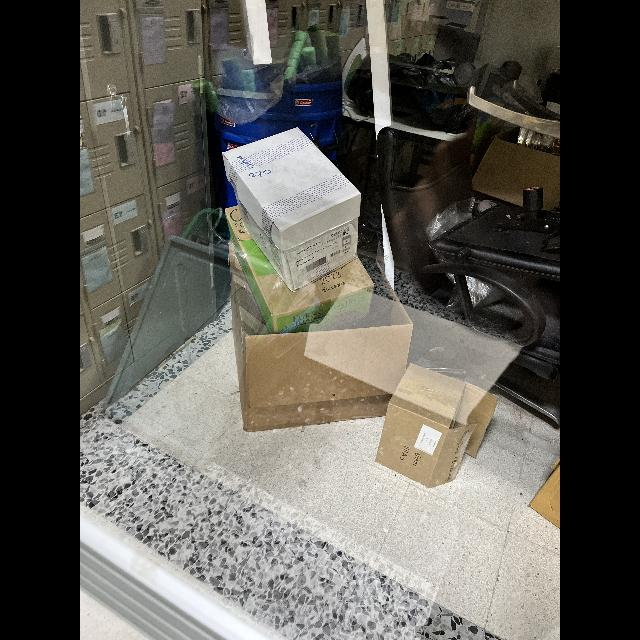cardboard_box: (222, 259, 418, 436), (218, 124, 366, 294), (368, 364, 498, 486)
